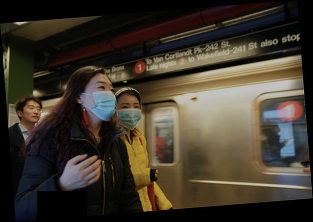with_mask: (84, 79, 118, 123), (116, 101, 144, 132)
without_mask: (23, 103, 43, 123)
